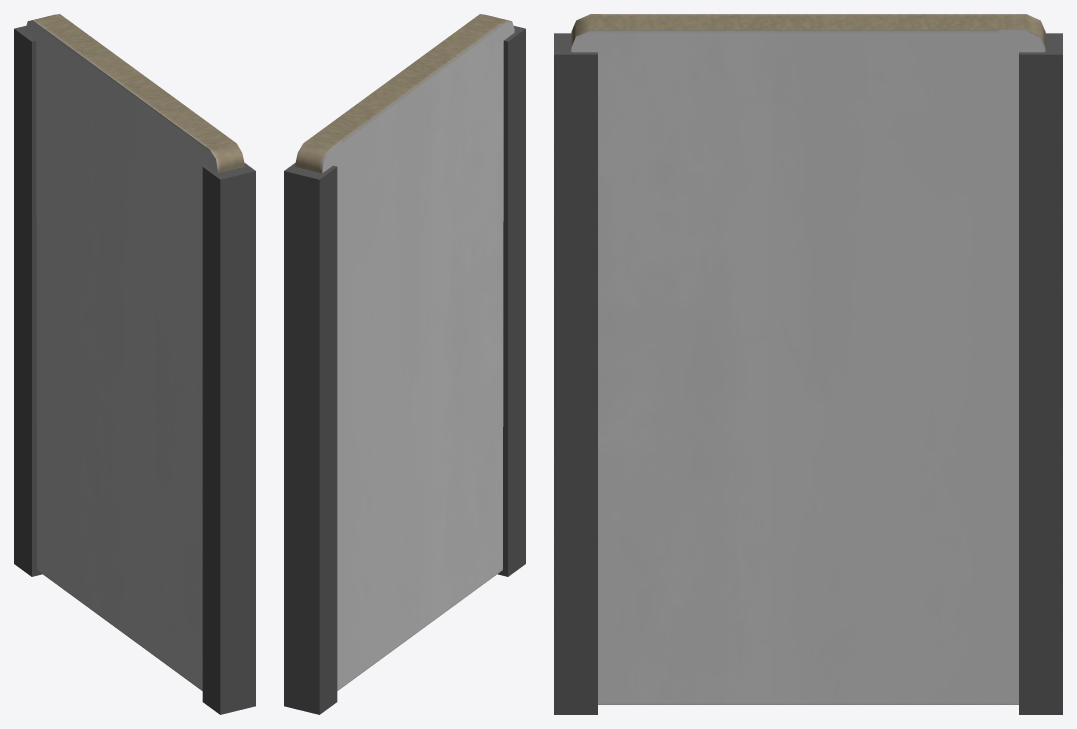
File: Pfb_WC_Door__3.fbx
3 views of the same model, side by side, from view 1: azimuth 30°, elevation 25°; view 2: azimuth 150°, elevation 25°; view 3: azimuth 270°, elevation 25° (orthographic). The views are drawn at different scales.
Visible parts, largest first — view 1: MAT_WC_Board_White 2; view 2: MAT_WC_Board_White 2; view 3: MAT_WC_Board_White 2.
Part boxes in pixels (x1,y1,x2,y2): MAT_WC_Board_White 2: (14, 14, 255, 714); MAT_WC_Board_White 2: (284, 14, 525, 714); MAT_WC_Board_White 2: (554, 14, 1062, 714).
Size of the model in its own units: 0.1268 by 1.88 by 1.27.
1 material, 1 textured.
